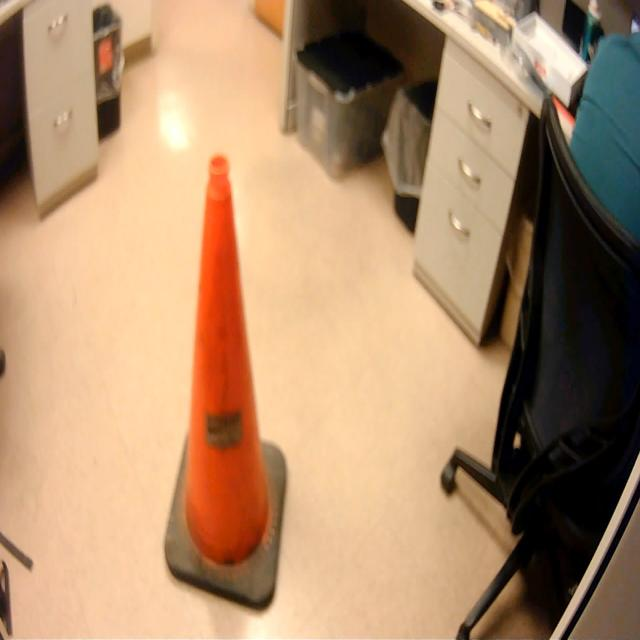traffic cone: (159, 142, 294, 623)
